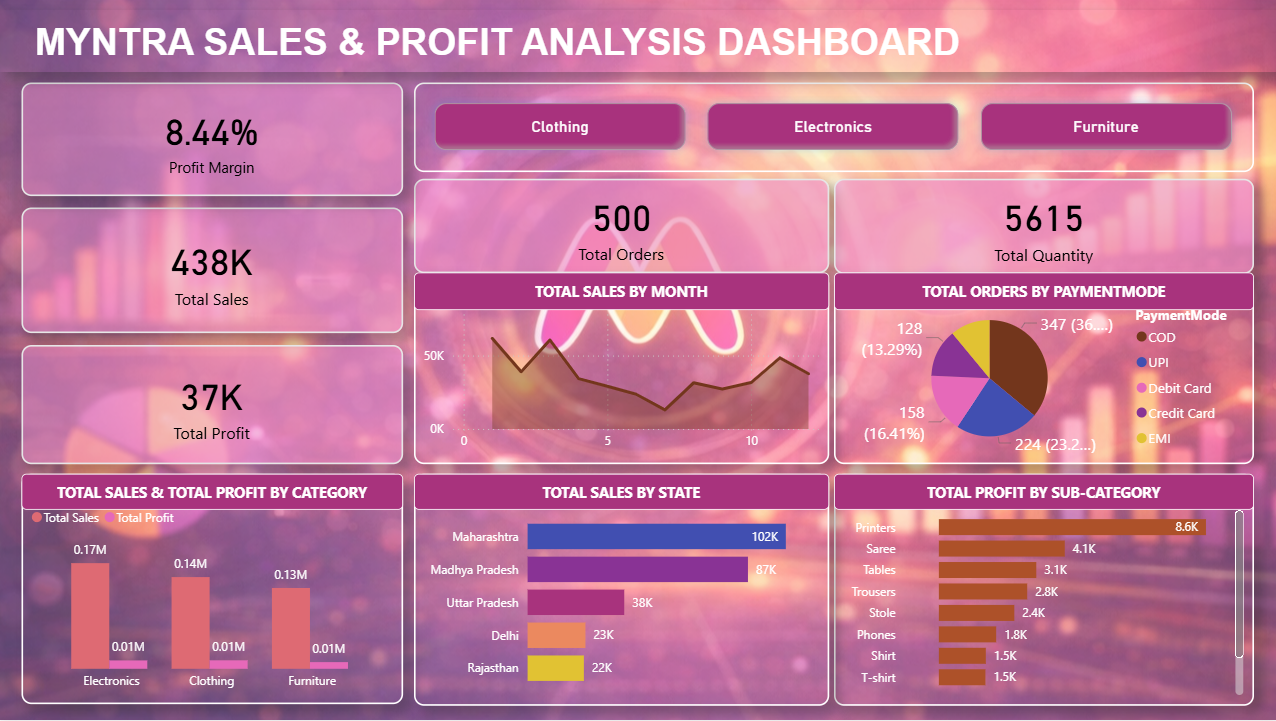

Layout of this report page (visuals, bound fields, positions):
{"tool":"powerbi","page":{"name":"Page 1","canvas":[1280,720],"ordinal":0},"visuals":[{"type":"card","fields":{"Values":["cleaned_myntra_dataset.Total Sales"]},"box":[24.1,283.5,386.1,90.5],"z":0},{"type":"card","fields":{"Values":["cleaned_myntra_dataset.Total Profit"]},"box":[22.9,382.4,384.9,90.5],"z":1000},{"type":"card","fields":{"Values":["cleaned_myntra_dataset.Total Orders"]},"box":[415,181,407.8,92.9],"z":2000},{"type":"card","fields":{"Values":["cleaned_myntra_dataset.Total Quantity"]},"box":[830,181,415,92.9],"z":3000},{"type":"lineChart","fields":{"Y":["cleaned_myntra_dataset.Total Sales"],"Category":["cleaned_myntra_dataset.Month"]},"box":[415,283.5,407.8,190.6],"z":4000},{"type":"clusteredBarChart","fields":{"Category":["cleaned_myntra_dataset.Sub-Category"],"Y":["cleaned_myntra_dataset.Total Profit"]},"box":[828.8,483.8,415,222],"z":5000},{"type":"pieChart","fields":{"Category":["cleaned_myntra_dataset.PaymentMode"],"Y":["cleaned_myntra_dataset.Total Orders"]},"box":[828.8,283.5,416.2,190.6],"z":6000},{"type":"advancedSlicerVisual","fields":{"Values":["cleaned_myntra_dataset.Category"]},"box":[415,89.3,830,80.8],"z":7000},{"type":"clusteredColumnChart","fields":{"Category":["cleaned_myntra_dataset.Category"],"Y":["cleaned_myntra_dataset.Total Sales","cleaned_myntra_dataset.Total Profit"]},"box":[22.9,483.8,384.9,220.8],"z":8000},{"type":"clusteredBarChart","fields":{"Category":["cleaned_myntra_dataset.State"],"Y":["cleaned_myntra_dataset.Total Sales"]},"box":[415,483.8,407.8,222],"z":9000},{"type":"card","fields":{"Values":["cleaned_myntra_dataset.Profit Margin"]},"box":[22.9,181,384.9,92.9],"z":10000},{"type":"image","box":[13.3,56.7,364.3,161.7],"z":11000},{"type":"textbox","box":[0,0,1280,80.8],"z":12000}]}

Visuals, with their boxes in screenshot pixels (x1, y1, x2, y2), scaled from the page's 1280x720 canvas onto the 1276x721 screenshot:
card - cleaned_myntra_dataset.Total Sales: rect(24, 284, 409, 375)
card - cleaned_myntra_dataset.Total Profit: rect(23, 383, 407, 474)
card - cleaned_myntra_dataset.Total Orders: rect(414, 181, 820, 274)
card - cleaned_myntra_dataset.Total Quantity: rect(827, 181, 1241, 274)
lineChart - cleaned_myntra_dataset.Total Sales x cleaned_myntra_dataset.Month: rect(414, 284, 820, 475)
clusteredBarChart - cleaned_myntra_dataset.Sub-Category x cleaned_myntra_dataset.Total Profit: rect(826, 484, 1240, 707)
pieChart - cleaned_myntra_dataset.PaymentMode x cleaned_myntra_dataset.Total Orders: rect(826, 284, 1241, 475)
advancedSlicerVisual - cleaned_myntra_dataset.Category: rect(414, 89, 1241, 170)
clusteredColumnChart - cleaned_myntra_dataset.Category x cleaned_myntra_dataset.Total Sales: rect(23, 484, 407, 706)
clusteredBarChart - cleaned_myntra_dataset.State x cleaned_myntra_dataset.Total Sales: rect(414, 484, 820, 707)
card - cleaned_myntra_dataset.Profit Margin: rect(23, 181, 407, 274)
image: rect(13, 57, 376, 219)
textbox: rect(0, 0, 1275, 81)
